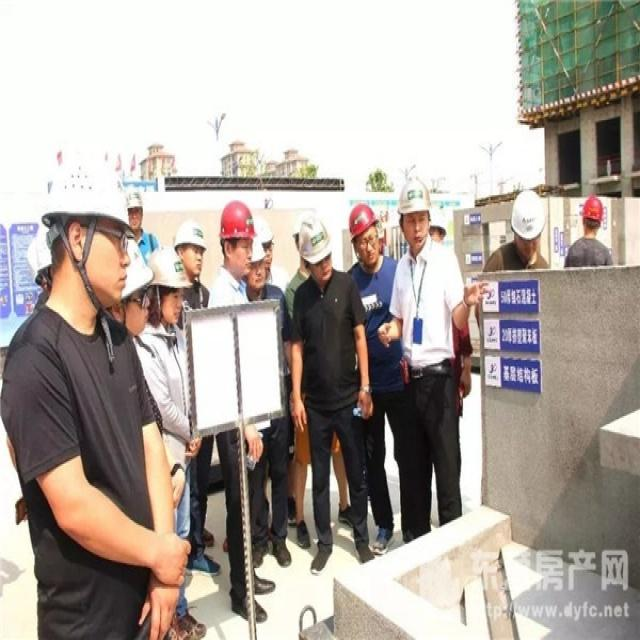helmet: (42, 208, 133, 425), (112, 314, 154, 449), (145, 323, 188, 433), (217, 263, 255, 372), (505, 250, 547, 346), (296, 284, 334, 377), (346, 266, 383, 358), (398, 235, 431, 333), (175, 295, 207, 373), (243, 313, 265, 391), (124, 248, 145, 316), (580, 260, 603, 316), (256, 295, 275, 356)
